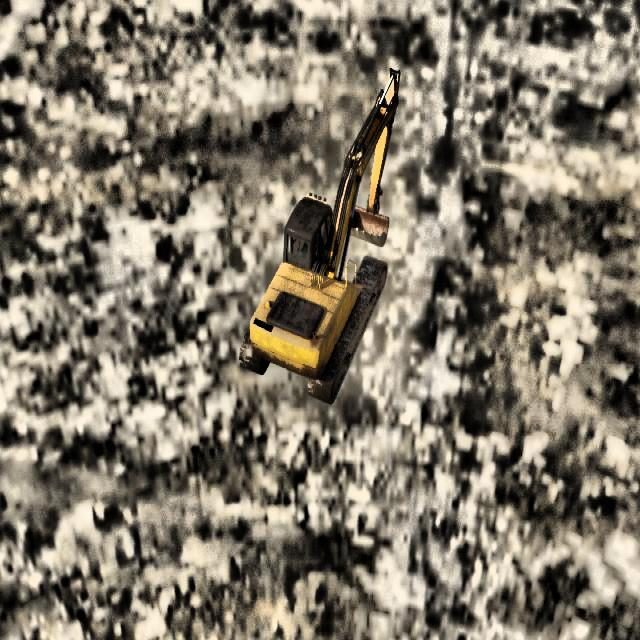excavator: (238, 67, 400, 405)
